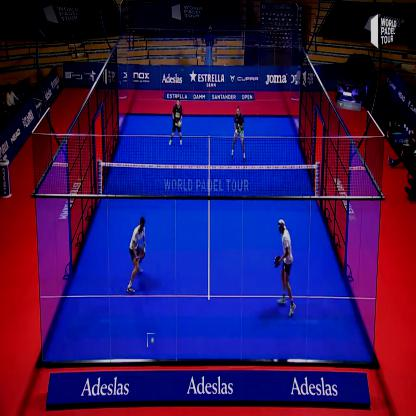ball: (147, 333, 156, 348)
